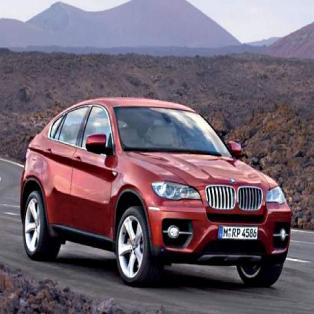Auto: (19, 97, 294, 290)
